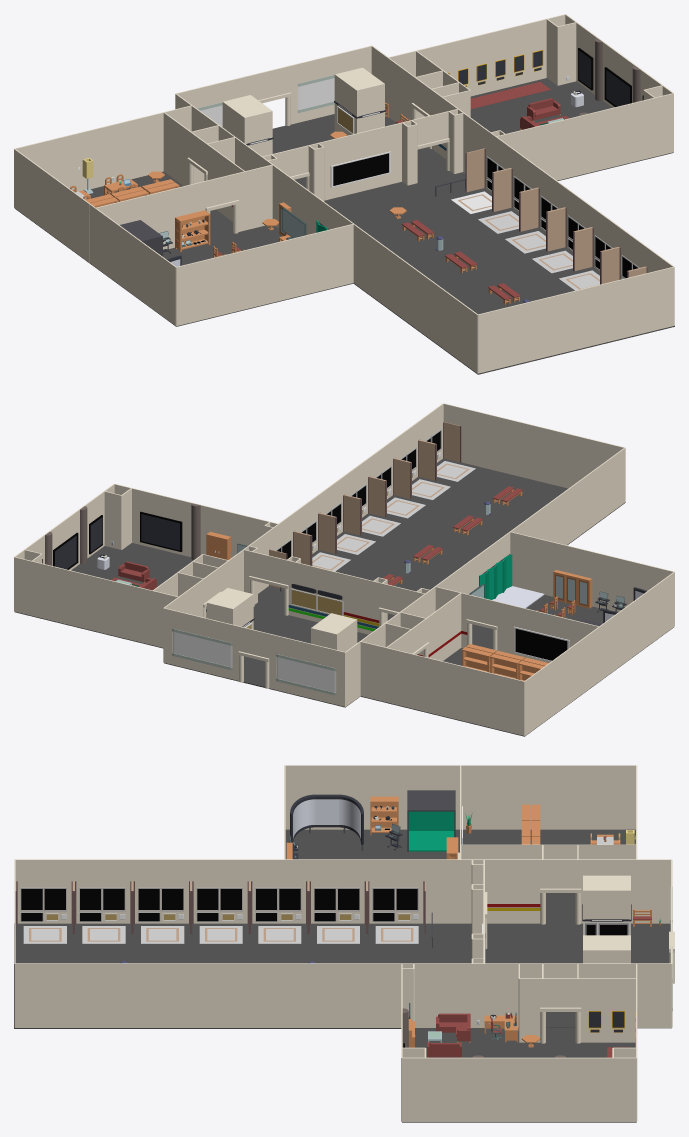
The model's file is Diorama.glb.
The picture shows the model from 3 angles, top to bottom: view 1: azimuth 30°, elevation 25°; view 2: azimuth 150°, elevation 25°; view 3: azimuth 270°, elevation 25°; orthographic projection. The views are drawn at different scales.
Parts seen in each view (by area): view 1: mergedBlocks(Clone); view 2: mergedBlocks(Clone); view 3: mergedBlocks(Clone).
Boxes of the visible parts, x1,y1,x2,y2 form: mergedBlocks(Clone): (14, 14, 674, 374); mergedBlocks(Clone): (14, 403, 674, 736); mergedBlocks(Clone): (14, 765, 674, 1122).
Bounding box in the file's own units: 59.13 × 6.38 × 56.36.
